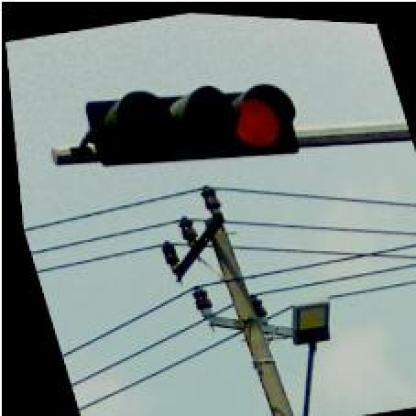red: (75, 55, 310, 191)
